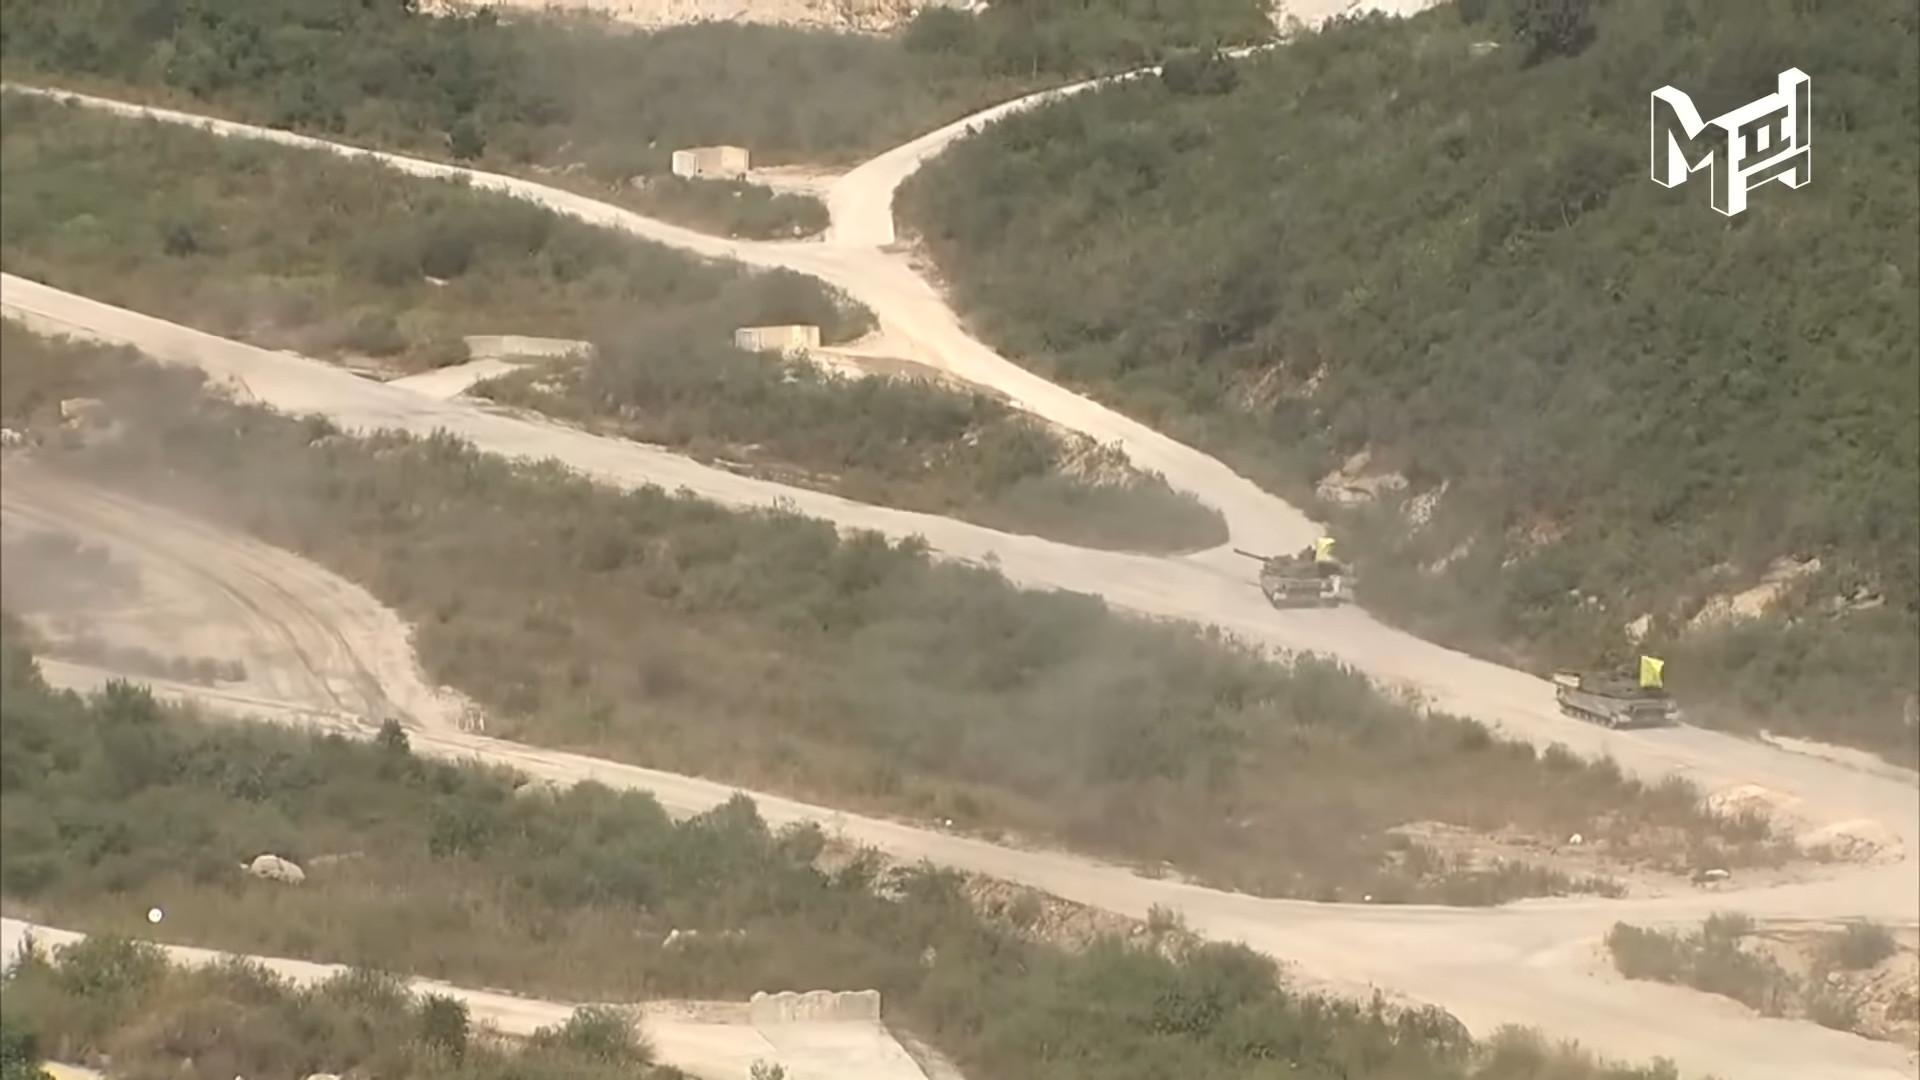tank: (1556, 663, 1677, 729), (1233, 546, 1344, 608)
